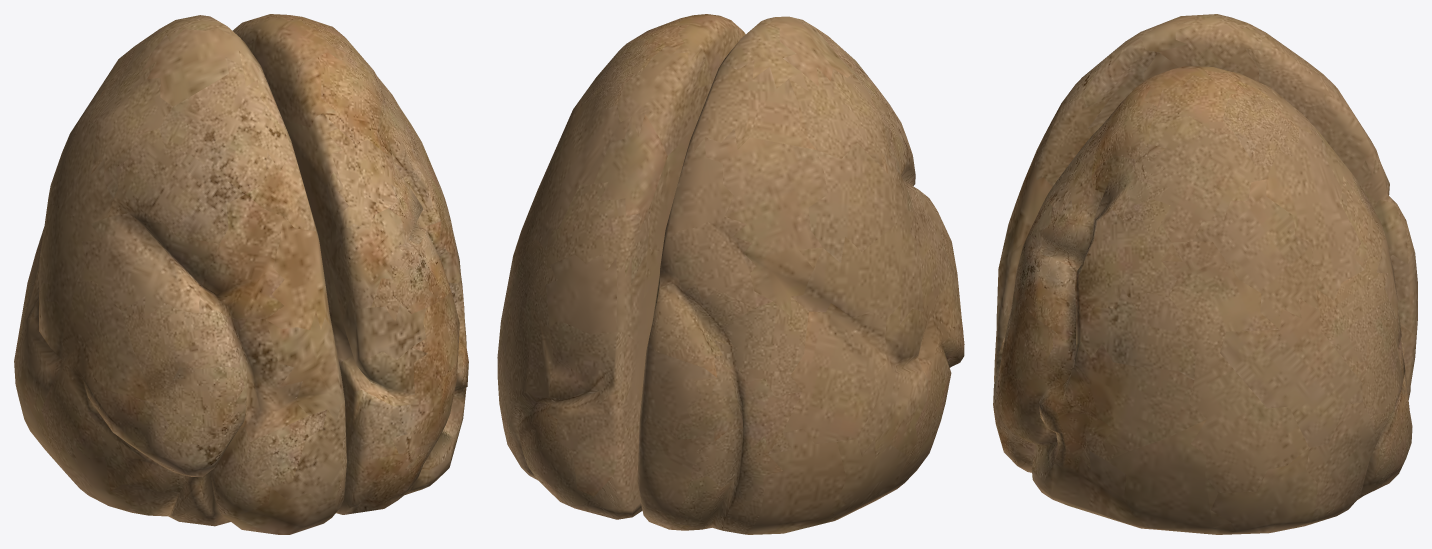
Rendered from RockFormation2_ST-optimized.glb.
3 renders of one model, left to right at view 1: azimuth 30°, elevation 25°; view 2: azimuth 150°, elevation 25°; view 3: azimuth 270°, elevation 25°, orthographic. The views are drawn at different scales.
Parts seen in each view (by area): view 1: mesh_node; view 2: mesh_node; view 3: mesh_node.
Part boxes in pixels (bbox=[...]): mesh_node: bbox=[14, 14, 468, 534]; mesh_node: bbox=[497, 14, 964, 534]; mesh_node: bbox=[993, 14, 1417, 534].
Size of the model in its own units: 1.91 by 2 by 1.84.
Materials: 1 (1 with a texture image).
